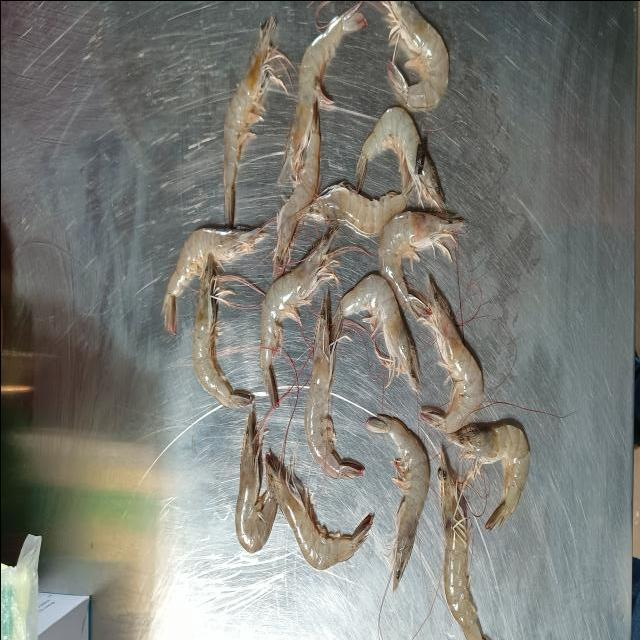shrimp: (278, 7, 366, 186), (259, 226, 338, 408), (222, 16, 289, 226), (265, 452, 372, 569), (365, 414, 429, 594), (161, 226, 264, 335), (304, 292, 364, 478), (419, 279, 482, 432), (338, 273, 419, 392), (436, 447, 485, 640), (191, 253, 252, 408), (378, 211, 464, 319), (355, 107, 444, 211), (446, 423, 529, 529), (272, 100, 320, 277), (381, 0, 448, 111), (234, 403, 276, 551), (306, 182, 410, 235)
